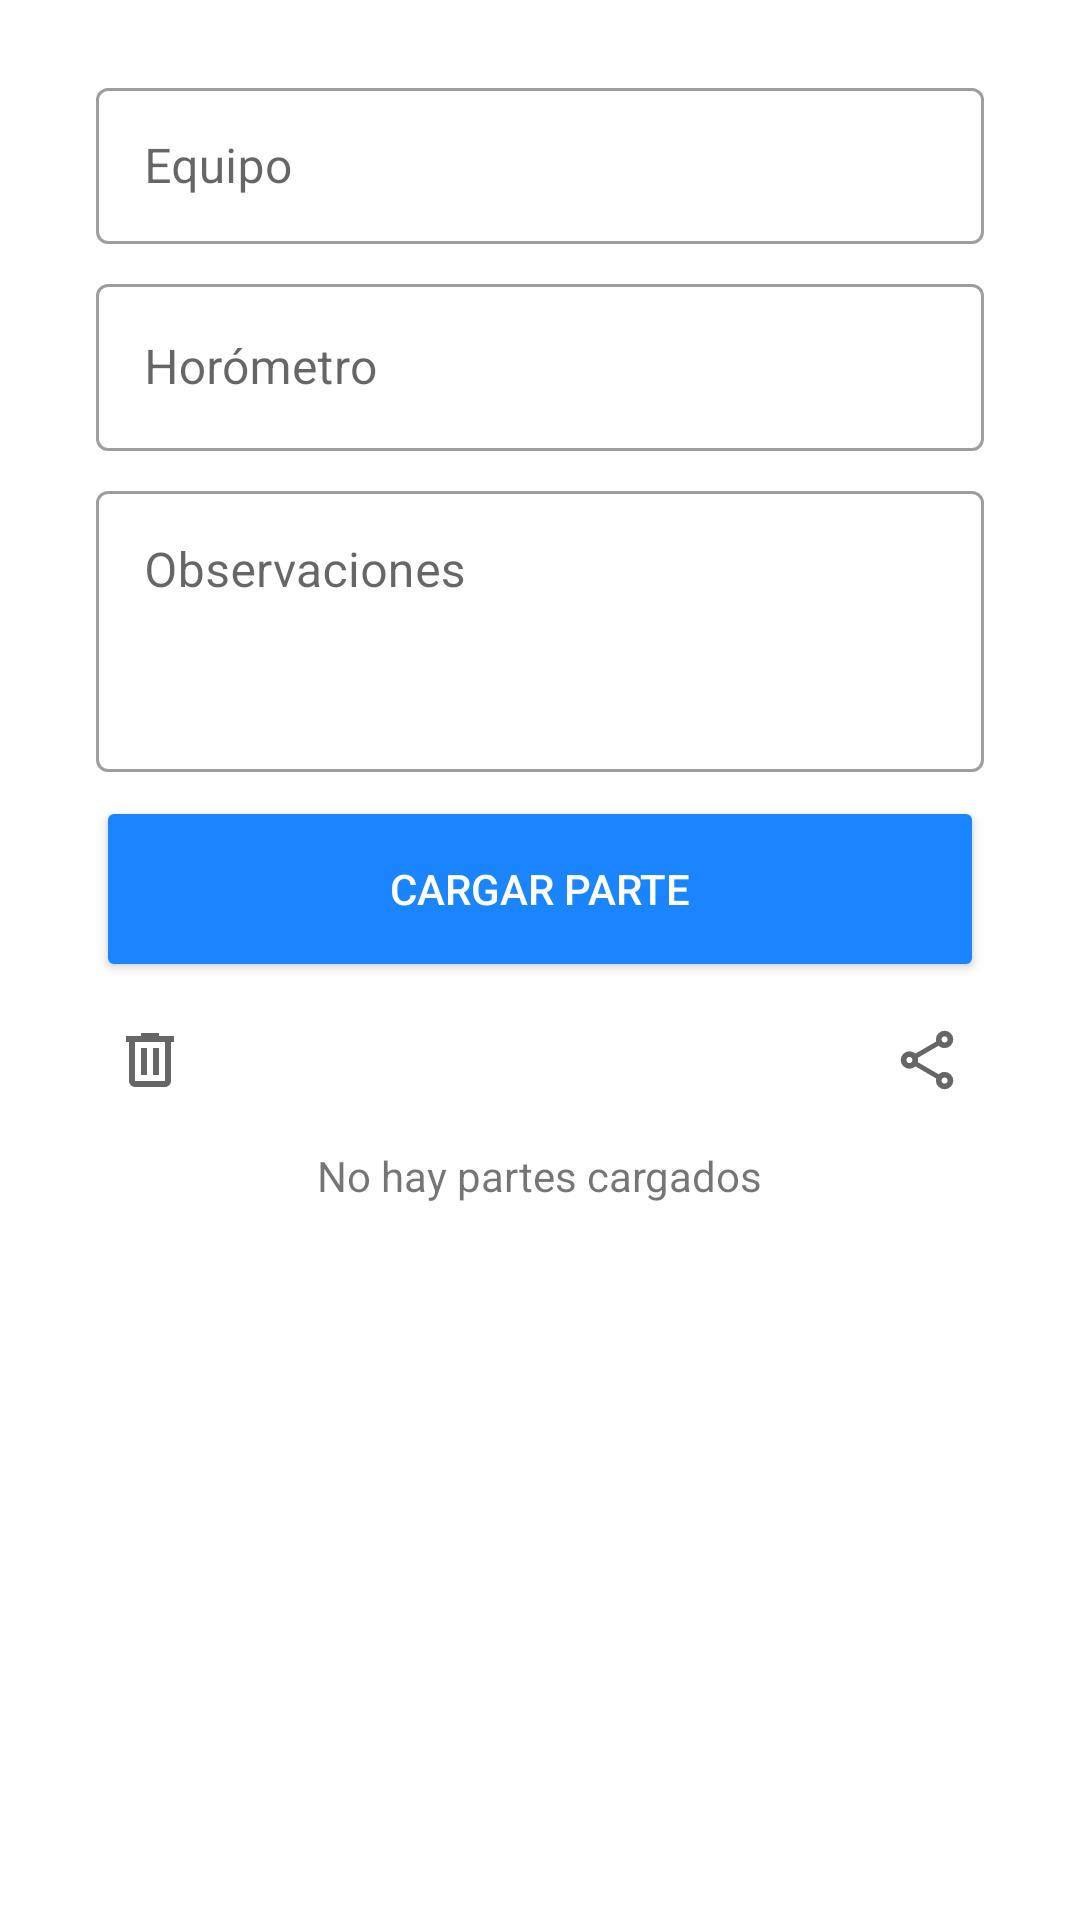

Icons on this 1080px×1920px Android screen, each with the point to tap as (x,y):
Compartir Partes Simples: (927,1060)
